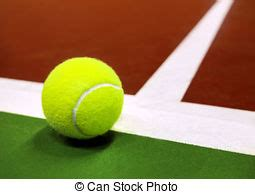tennis_ball: (40, 55, 125, 139)
